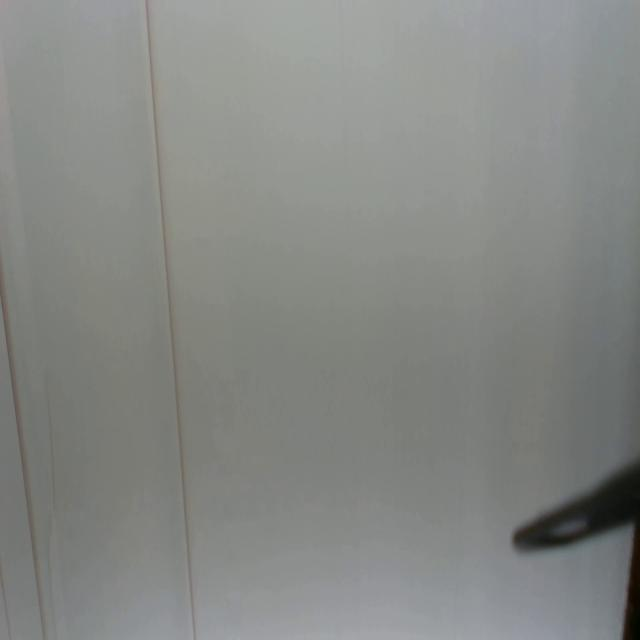crease: (143, 0, 198, 639), (0, 282, 47, 640), (46, 367, 58, 518), (0, 565, 12, 640)
